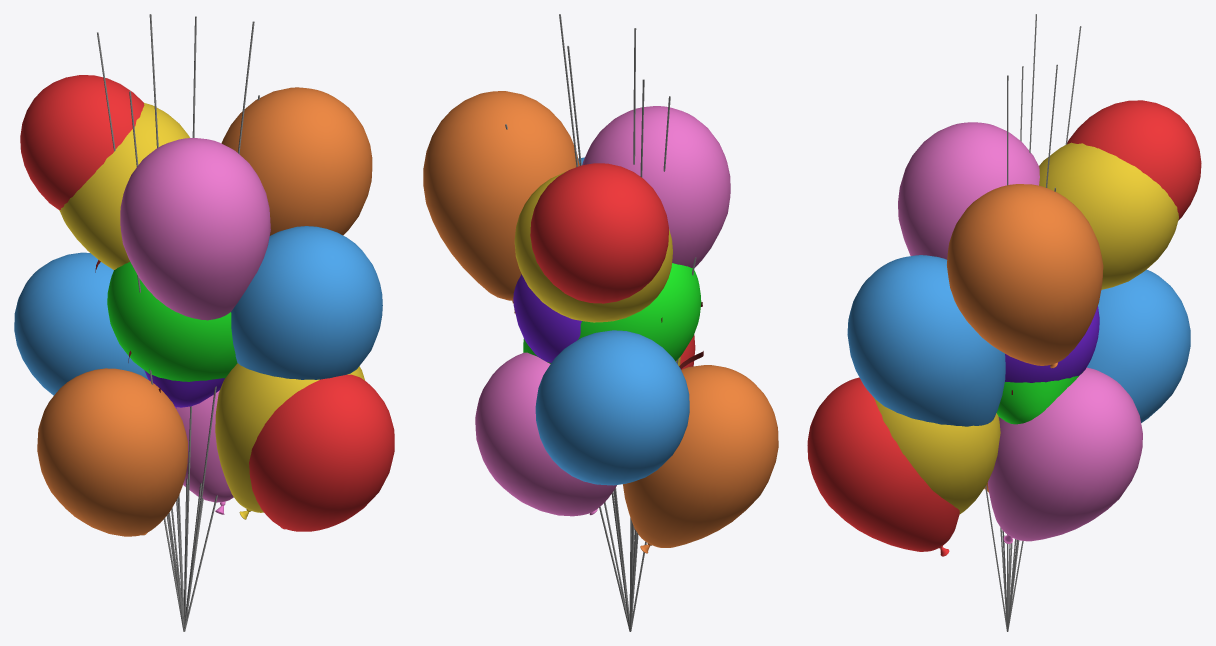
File: balloons.glb
3 views of the same model, side by side, from view 1: azimuth 30°, elevation 25°; view 2: azimuth 150°, elevation 25°; view 3: azimuth 270°, elevation 25° (orthographic).
Visible parts, largest first — view 1: Sphere.001_Balloon5_0, Sphere_Balloon3_0, Sphere.005_balloon1_0, Sphere.002_Balloon6_0, Sphere.006_balloon2_0, Sphere.003_Balloon6.001_0, Cube_cord_0, Sphere.007_Balloon4_0; view 2: Sphere.001_Balloon5_0, Sphere.002_Balloon6_0, Sphere_Balloon3_0, Sphere.005_balloon1_0, Sphere.006_balloon2_0, Sphere.003_Balloon6.001_0, Cube_cord_0, Sphere.007_Balloon4_0; view 3: Sphere.002_Balloon6_0, Sphere_Balloon3_0, Sphere.005_balloon1_0, Sphere.001_Balloon5_0, Sphere.006_balloon2_0, Cube_cord_0, Sphere.007_Balloon4_0, Sphere.003_Balloon6.001_0.
Boxes of the visible parts, left/top/right/bottom form: Sphere.001_Balloon5_0: left=37, top=87, right=372, bottom=536; Sphere_Balloon3_0: left=14, top=226, right=382, bottom=395; Sphere.005_balloon1_0: left=20, top=75, right=394, bottom=531; Sphere.002_Balloon6_0: left=120, top=138, right=270, bottom=514; Sphere.006_balloon2_0: left=59, top=103, right=365, bottom=519; Sphere.003_Balloon6.001_0: left=107, top=262, right=237, bottom=381; Cube_cord_0: left=97, top=14, right=259, bottom=631; Sphere.007_Balloon4_0: left=144, top=370, right=224, bottom=408; Sphere.001_Balloon5_0: left=423, top=91, right=778, bottom=553; Sphere.002_Balloon6_0: left=475, top=106, right=730, bottom=516; Sphere_Balloon3_0: left=535, top=157, right=689, bottom=485; Sphere.005_balloon1_0: left=530, top=163, right=695, bottom=369; Sphere.006_balloon2_0: left=514, top=172, right=680, bottom=365; Sphere.003_Balloon6.001_0: left=523, top=263, right=701, bottom=363; Cube_cord_0: left=505, top=14, right=696, bottom=631; Sphere.007_Balloon4_0: left=513, top=274, right=581, bottom=362; Sphere.002_Balloon6_0: left=898, top=122, right=1142, bottom=543; Sphere_Balloon3_0: left=847, top=255, right=1190, bottom=426; Sphere.005_balloon1_0: left=807, top=100, right=1201, bottom=556; Sphere.001_Balloon5_0: left=947, top=184, right=1103, bottom=492; Sphere.006_balloon2_0: left=873, top=142, right=1178, bottom=514; Cube_cord_0: left=985, top=14, right=1081, bottom=631; Sphere.007_Balloon4_0: left=1005, top=306, right=1099, bottom=382; Sphere.003_Balloon6.001_0: left=996, top=372, right=1082, bottom=424.
Size of the model in its own units: 2.46e+07 by 4.45e+07 by 2.61e+07.
